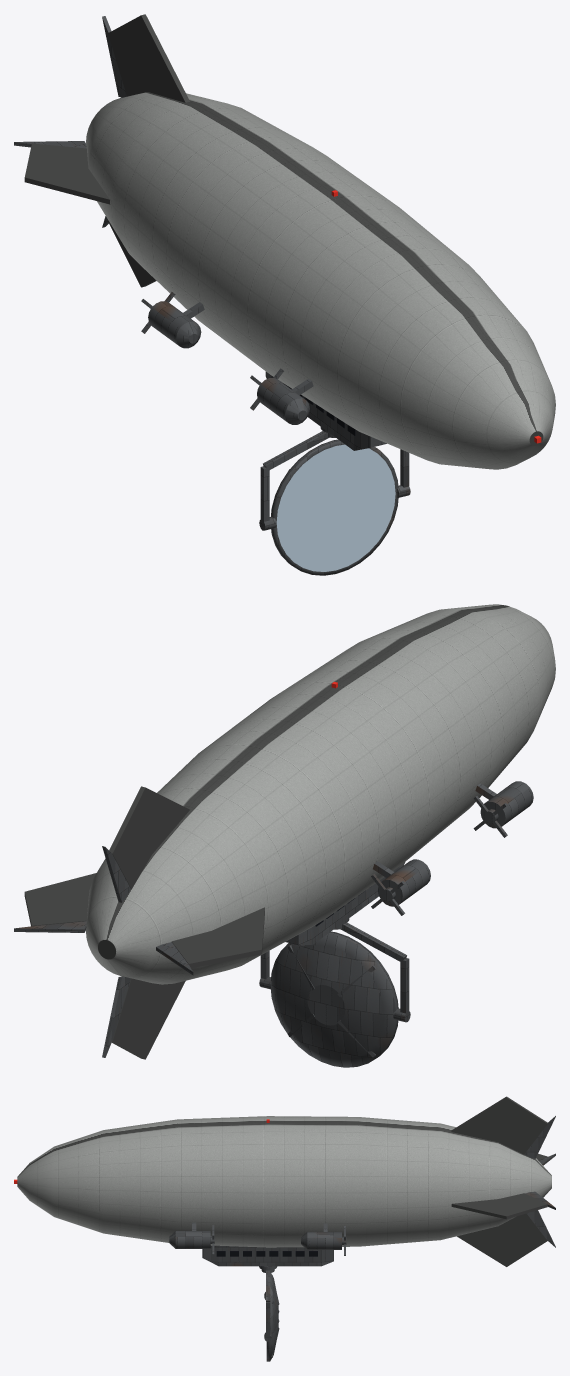
Rendered from ACO_ReflectorAirship.fbx.
The picture shows the model from 3 angles, top to bottom: view 1: azimuth 30°, elevation 25°; view 2: azimuth 150°, elevation 25°; view 3: azimuth 270°, elevation 25°; orthographic projection. The views are drawn at different scales.
Parts seen in each view (by area): view 1: Airship_Hull, Airship_Mirror; view 2: Airship_Hull, Airship_Mirror; view 3: Airship_Hull, Airship_Mirror.
Boxes of the visible parts, <box> form: Airship_Hull: <box>14,14,555,469</box>; Airship_Mirror: <box>259,431,410,575</box>; Airship_Hull: <box>14,604,555,1059</box>; Airship_Mirror: <box>259,922,410,1067</box>; Airship_Hull: <box>14,1096,555,1270</box>; Airship_Mirror: <box>261,1269,279,1361</box>.
Size of the model in its own units: 45.87 by 69.83 by 132.
5 materials, 5 textured.
